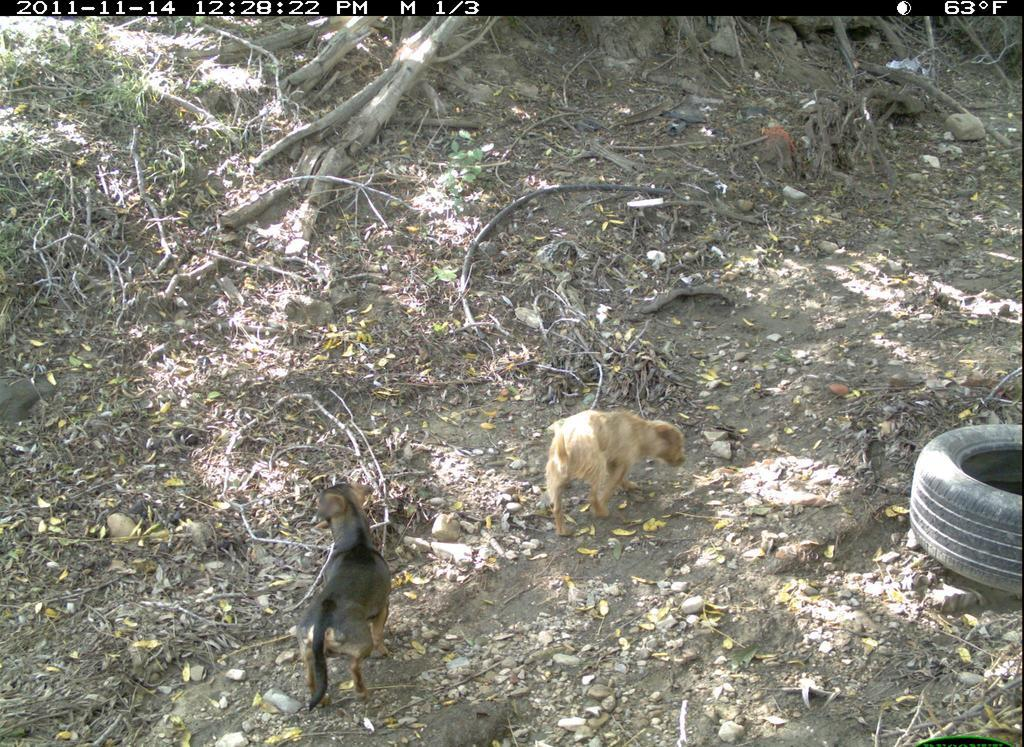dog: (287, 477, 404, 712), (534, 396, 722, 541)
